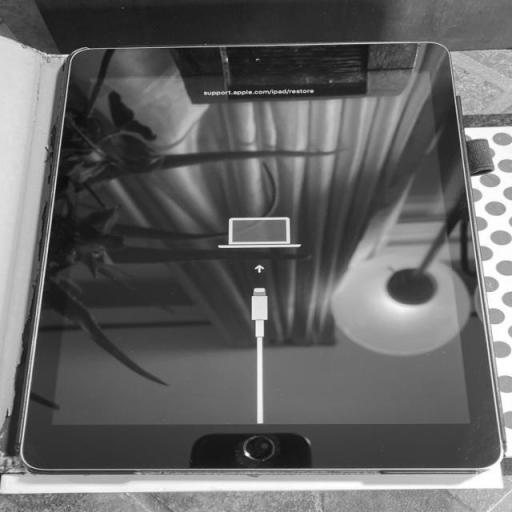phone: (15, 40, 506, 472)
